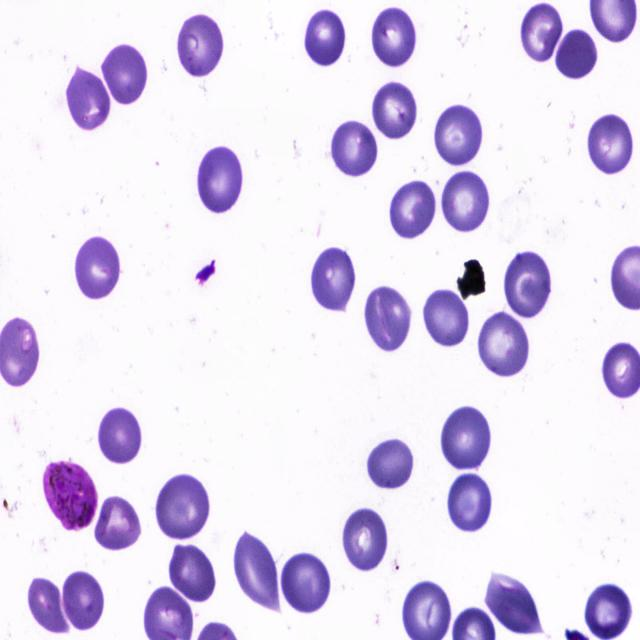difficult: (41, 458, 99, 532)
red blood cell: (195, 140, 246, 218), (154, 472, 210, 542), (478, 308, 530, 380), (362, 280, 412, 354), (278, 550, 333, 616), (485, 576, 543, 638), (174, 12, 226, 81), (72, 234, 123, 304), (439, 406, 492, 472), (235, 530, 279, 609), (433, 104, 487, 167), (62, 66, 111, 135), (441, 169, 492, 235), (503, 251, 552, 319), (387, 178, 439, 242), (585, 111, 637, 175), (369, 4, 418, 69), (342, 507, 391, 572), (329, 116, 380, 178), (309, 246, 356, 313), (100, 44, 150, 106), (168, 541, 218, 602), (91, 494, 142, 553), (370, 80, 420, 140), (446, 472, 494, 534), (424, 286, 471, 349), (584, 581, 634, 640), (303, 5, 349, 69), (97, 406, 145, 464), (366, 436, 416, 491), (62, 570, 106, 632), (28, 576, 72, 638), (520, 2, 564, 63), (557, 30, 599, 81)
